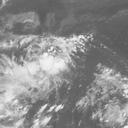cyclone: (17, 38, 69, 90)
